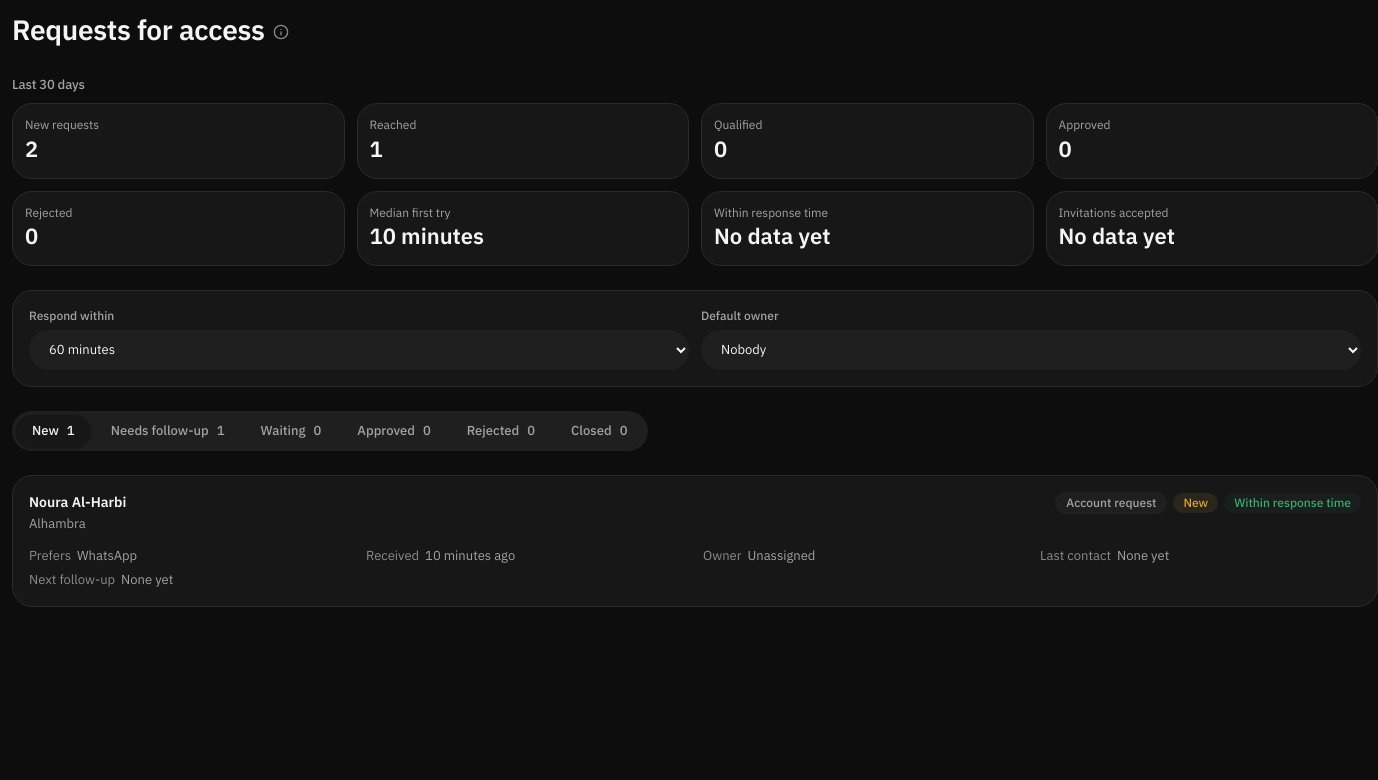
Test: AccessRequestsPage › moves between the states with tabs that carry their counts
The image size is (1378, 780).
Expected: the link "Noura Al-Harbi" is shown, [29,492,126,513]
Click the tab "Needs follow-up 1" at (168, 431), box [95,415,240,447]
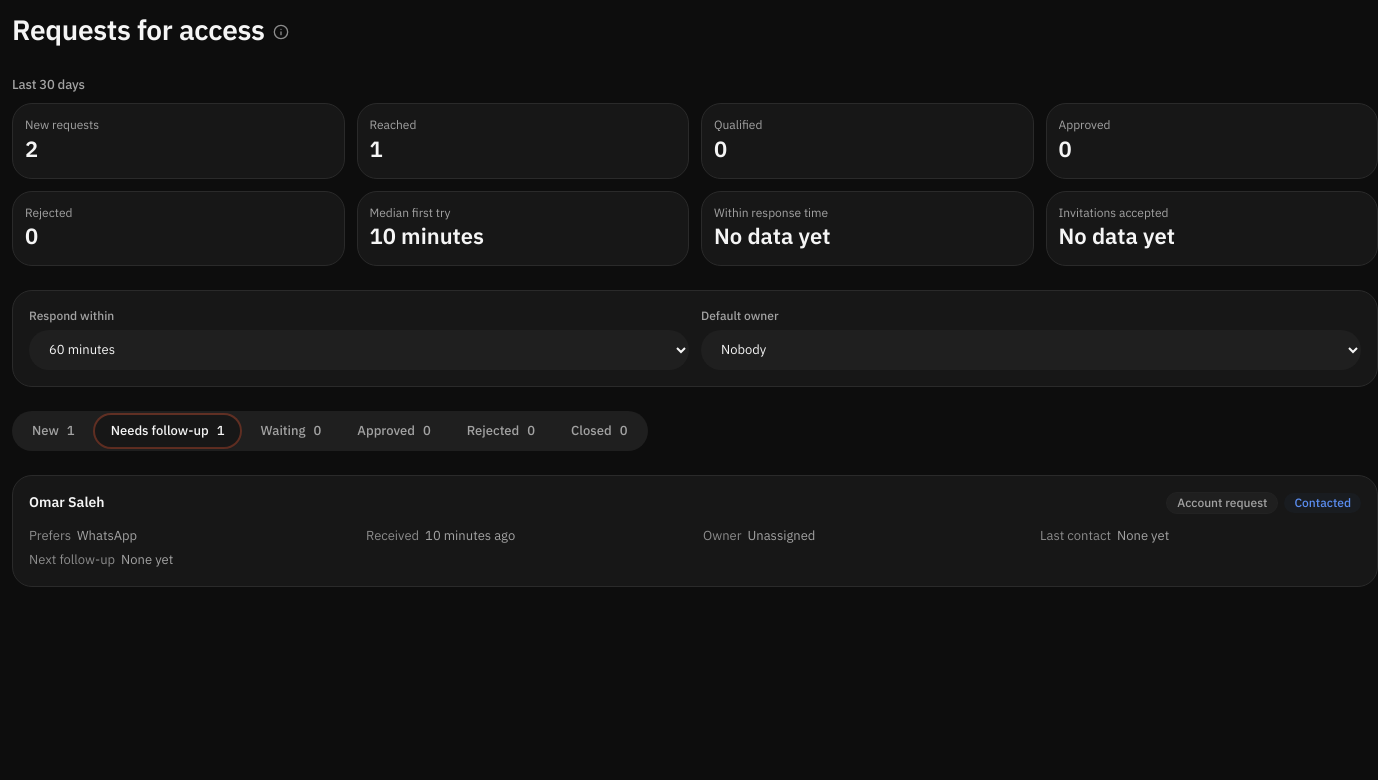
Result: the link "Omar Saleh" is shown at [29,492,105,513]
Result: the link "Noura Al-Harbi" is gone
